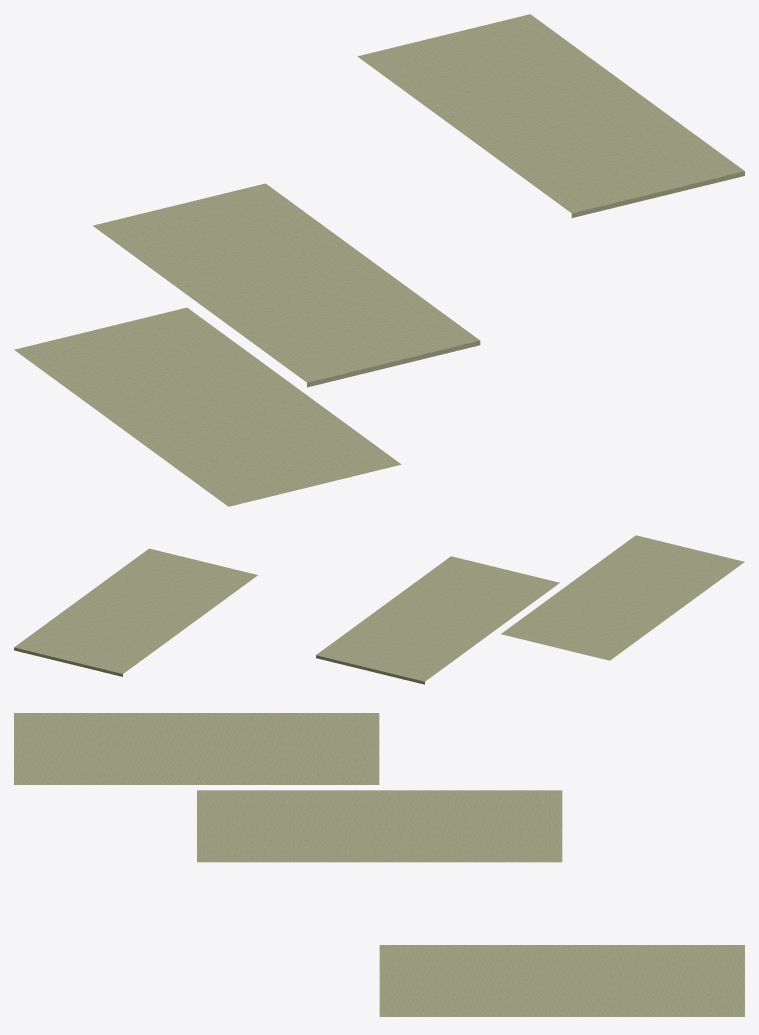
The model's file is kd_stage_135d18_4_37_bounded.glb.
3 views of the same model, one above another, from view 1: azimuth 30°, elevation 25°; view 2: azimuth 150°, elevation 25°; view 3: azimuth 270°, elevation 25° (orthographic). The views are drawn at different scales.
Parts seen in each view (by area): view 1: kd_stage_135d18_4_37_bounded; view 2: kd_stage_135d18_4_37_bounded; view 3: kd_stage_135d18_4_37_bounded.
Boxes of the visible parts, x1,y1,x2,y2 form: kd_stage_135d18_4_37_bounded: (14, 14, 744, 506); kd_stage_135d18_4_37_bounded: (14, 535, 744, 684); kd_stage_135d18_4_37_bounded: (14, 713, 744, 1016).
Size of the model in its own units: 3.24 by 0.02 by 3.3.
Materials: 1 (1 with a texture image).
